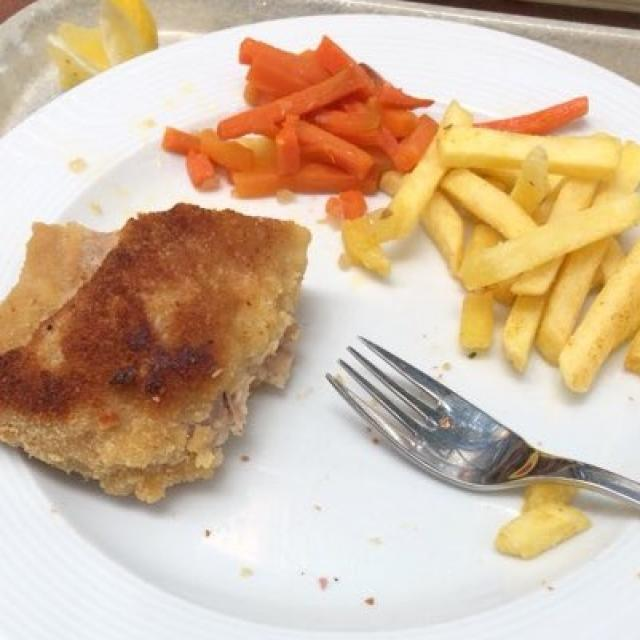carrot-raw: (177, 43, 449, 200)
chips-french-fries: (349, 114, 630, 383)
cordon-bleu-from-pork-schnitzel-fried: (7, 209, 307, 494)
